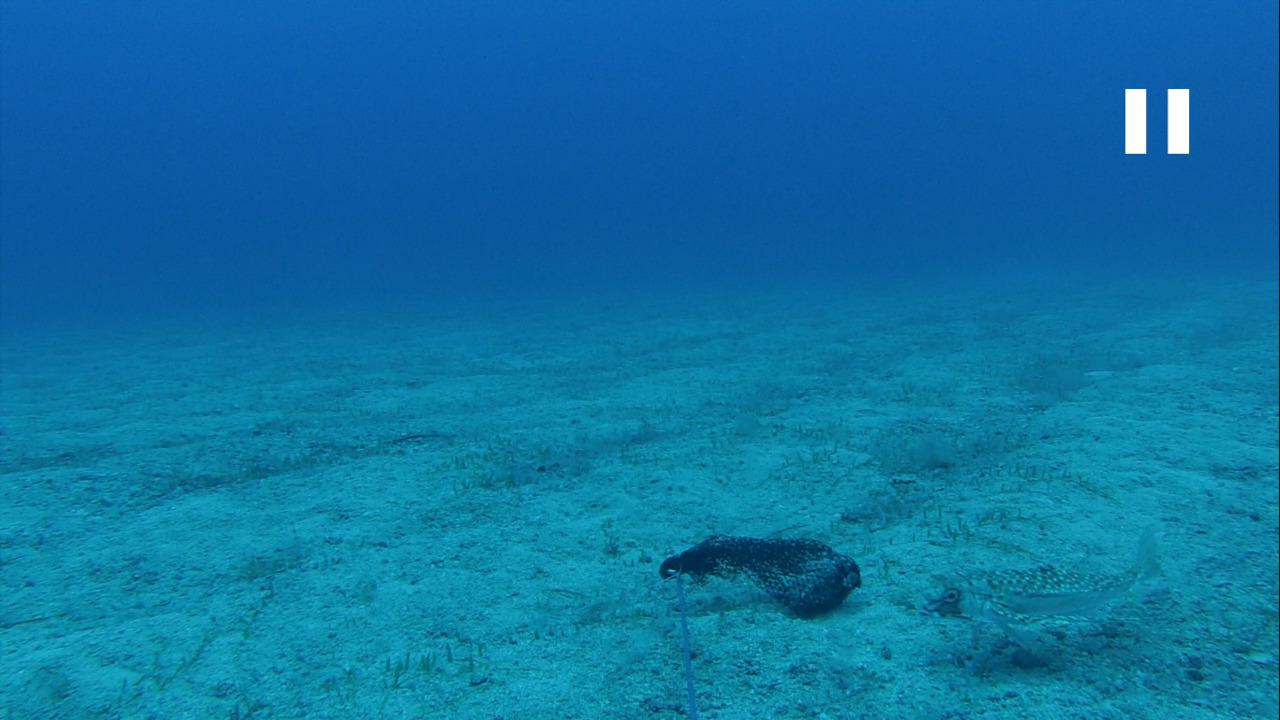dactylopterus: (906, 523, 1174, 653)
